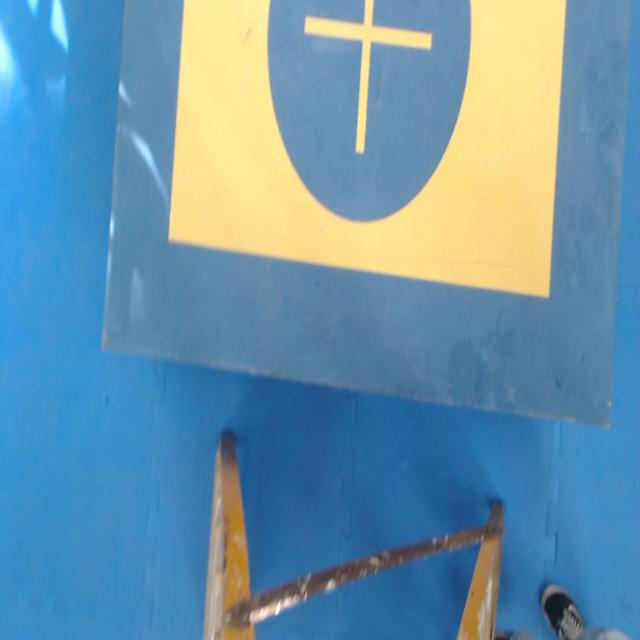base_inicio: (168, 0, 567, 298)
